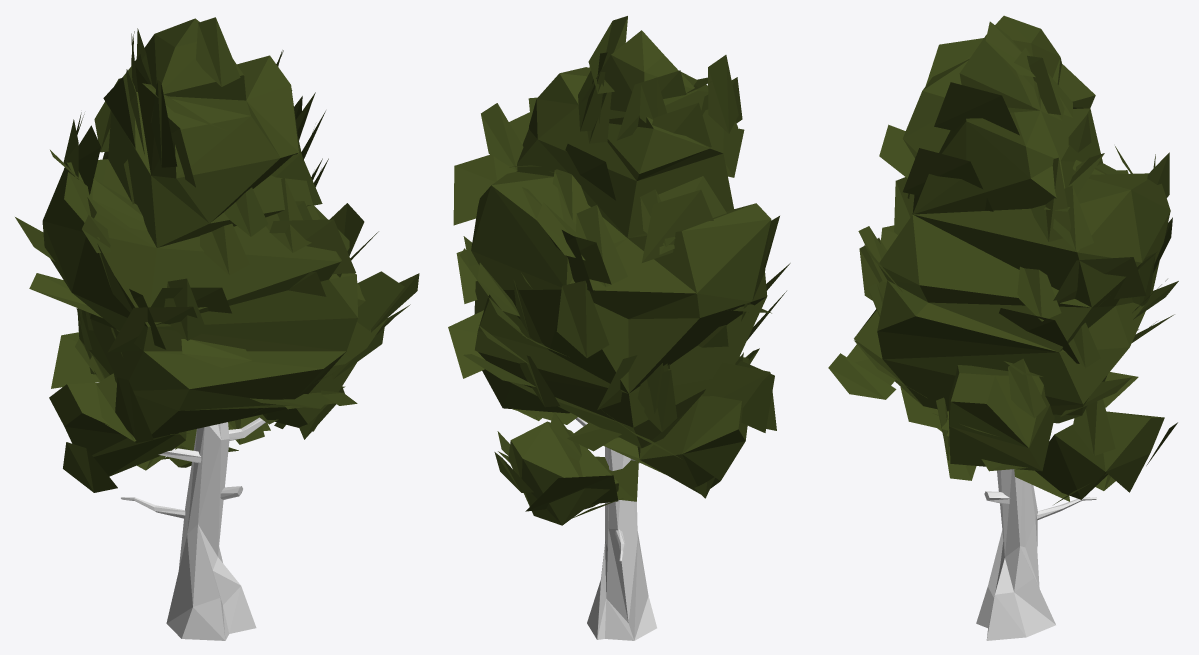
The model's file is tree-juniper-sapling-b.gltf.
The picture shows the model from 3 angles, left to right: view 1: azimuth 30°, elevation 25°; view 2: azimuth 150°, elevation 25°; view 3: azimuth 270°, elevation 25°; orthographic projection. The views are drawn at different scales.
Parts seen in each view (by area): view 1: tree-juniper-sapling-b; view 2: tree-juniper-sapling-b; view 3: tree-juniper-sapling-b.
Part boxes in pixels (left/top/right/bottom): tree-juniper-sapling-b: left=15, top=17, right=419, bottom=640; tree-juniper-sapling-b: left=448, top=16, right=790, bottom=640; tree-juniper-sapling-b: left=828, top=15, right=1178, bottom=640.
Bounding box in the file's own units: 0.0114 × 0.0186 × 0.0099.
